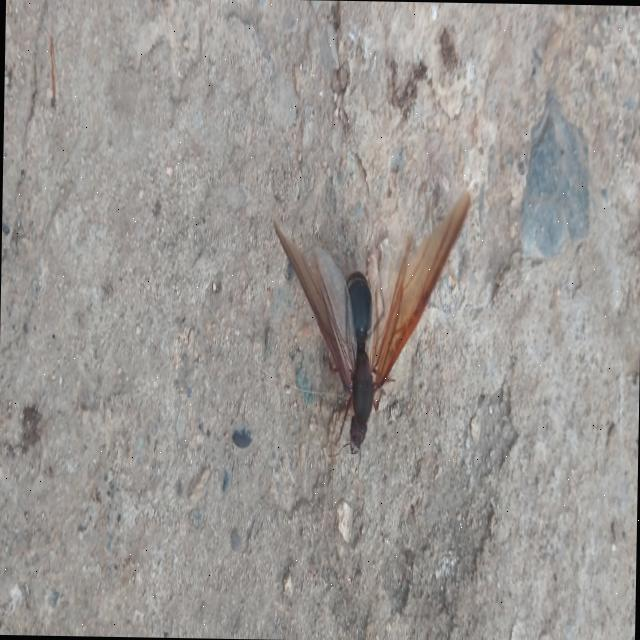Alive-Female-Alate: (268, 184, 470, 487)
